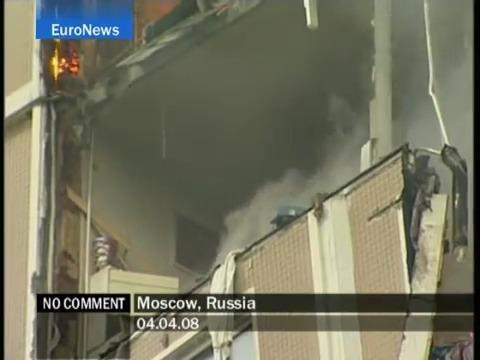fire: (47, 39, 84, 82)
